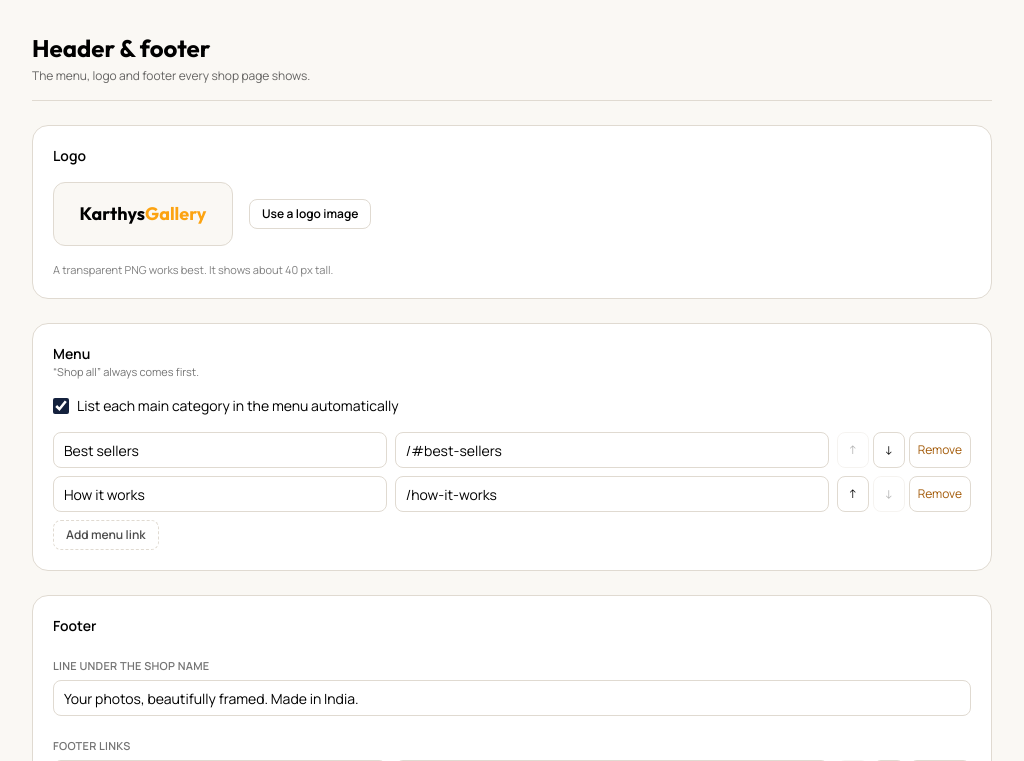
Test: admin header & footer › starts from what the shop shows today, then saves edits to both documents
Expected: the field showing "Best sellers" is shown, [53,432,387,468]
Click the button "Add menu link": (106, 535) [53,520,159,550]
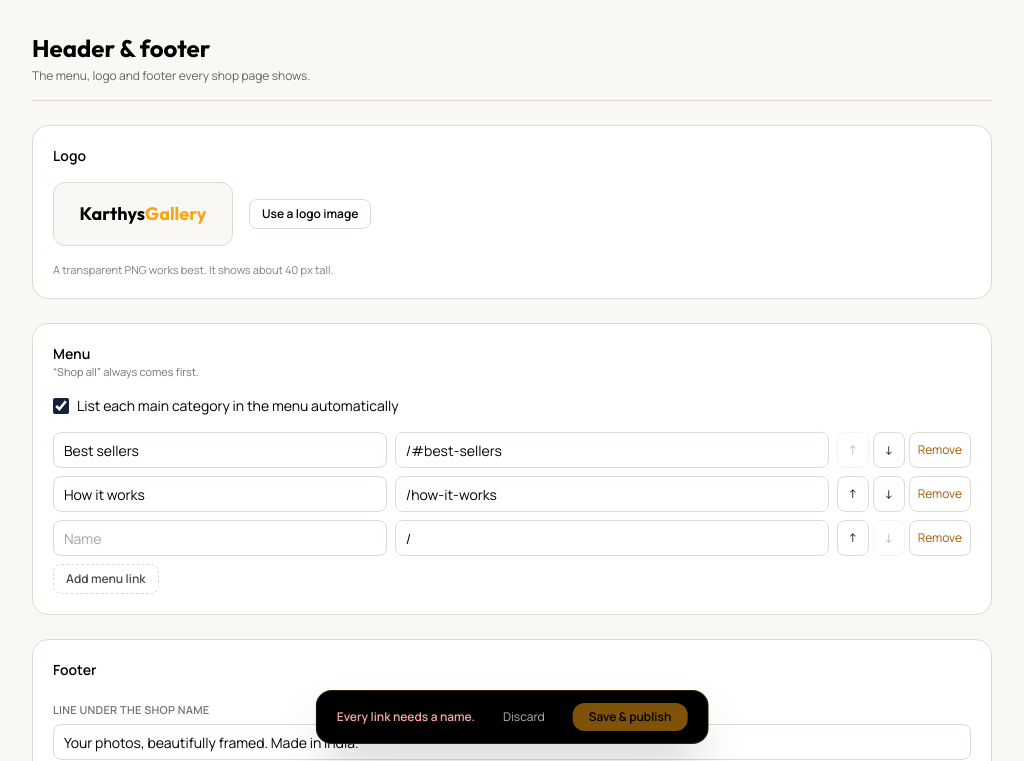
In the field named "Menu link 3 name": (220, 538) [53,520,387,556], type "Diwali gifts"
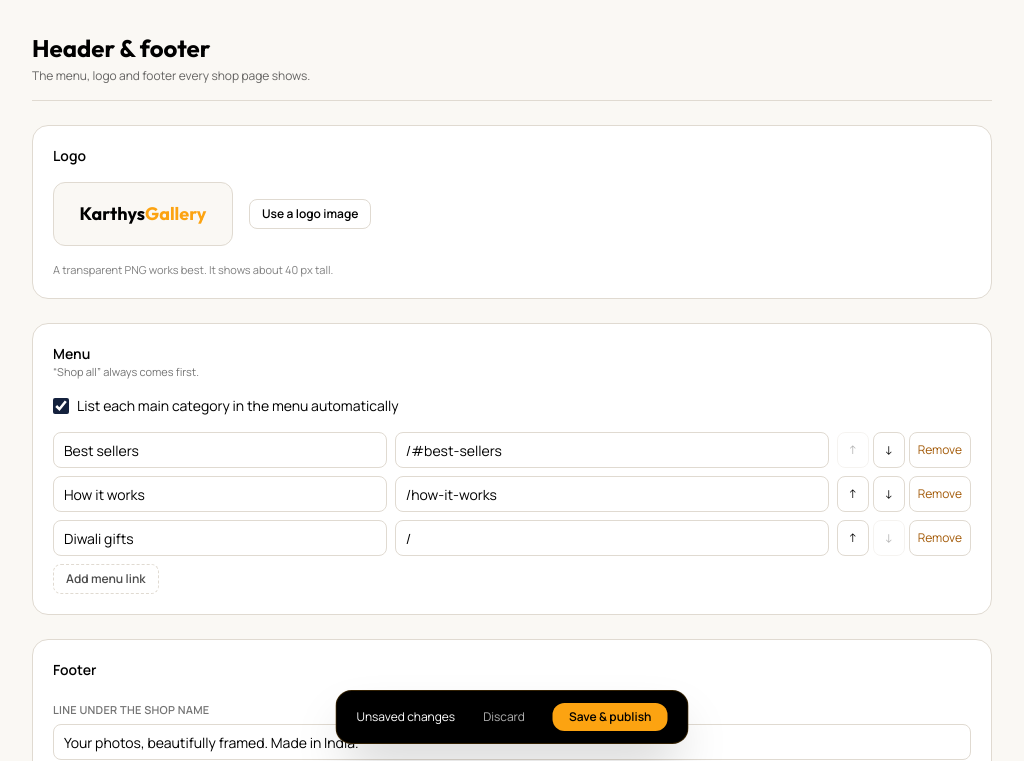
Replace the text in the field named "Menu link 3 address" with "/category/diwali": (612, 538) [395,520,829,556]
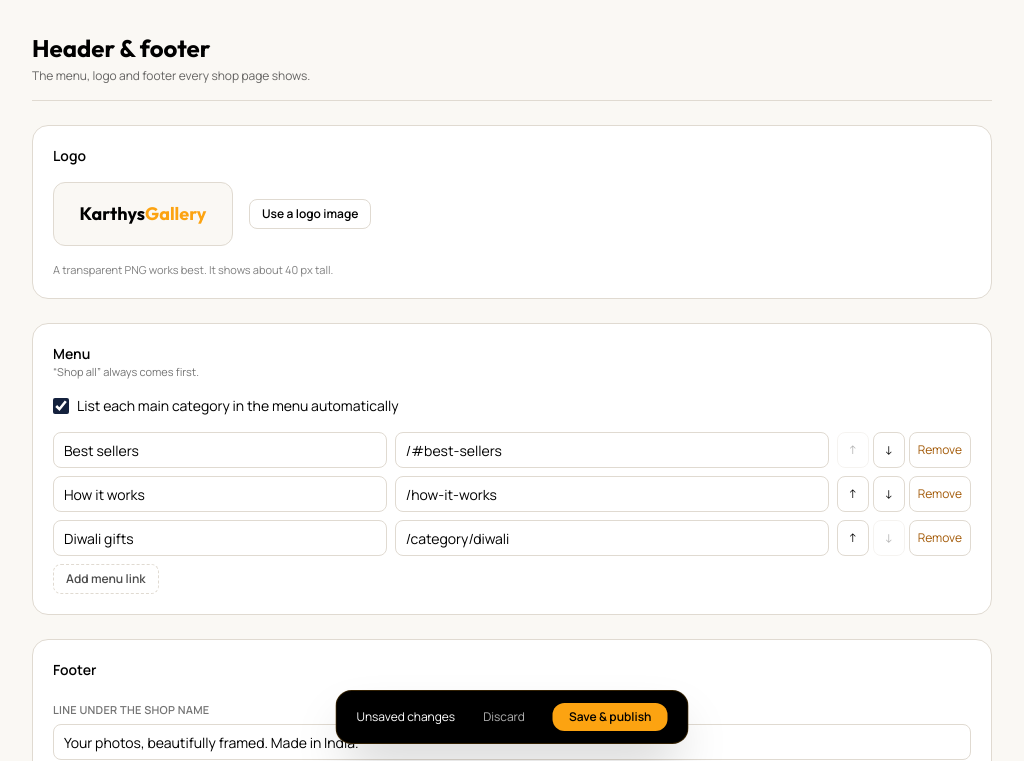
Click the checkbox labelled "List each main category in the menu automatically": (61, 406) [53,398,69,414]
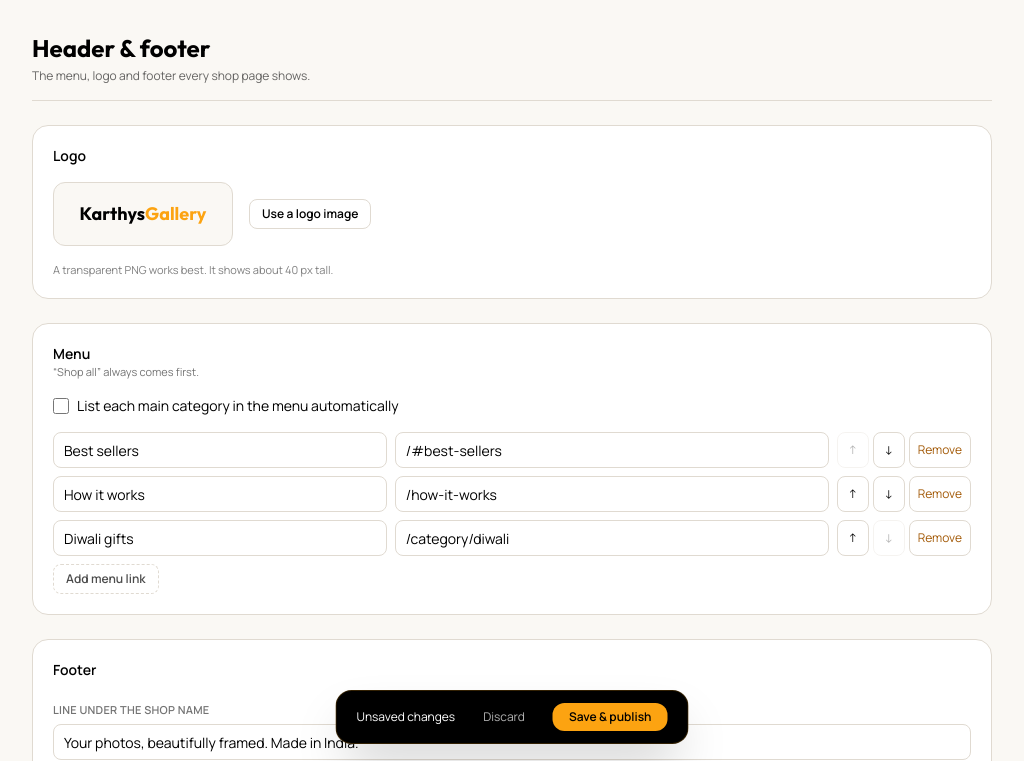
Click the button "Save & publish": (610, 717) [553,703,668,731]
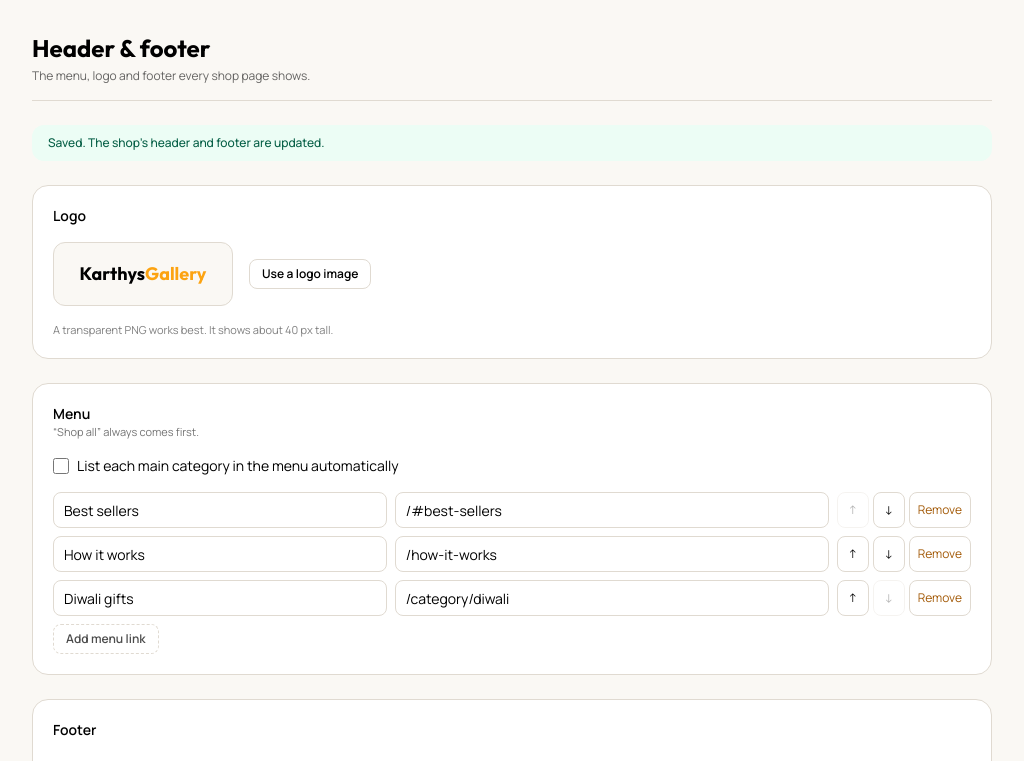
Result: the text "Saved. The shop’s header and footer are updated." is shown at [32,125,992,161]
